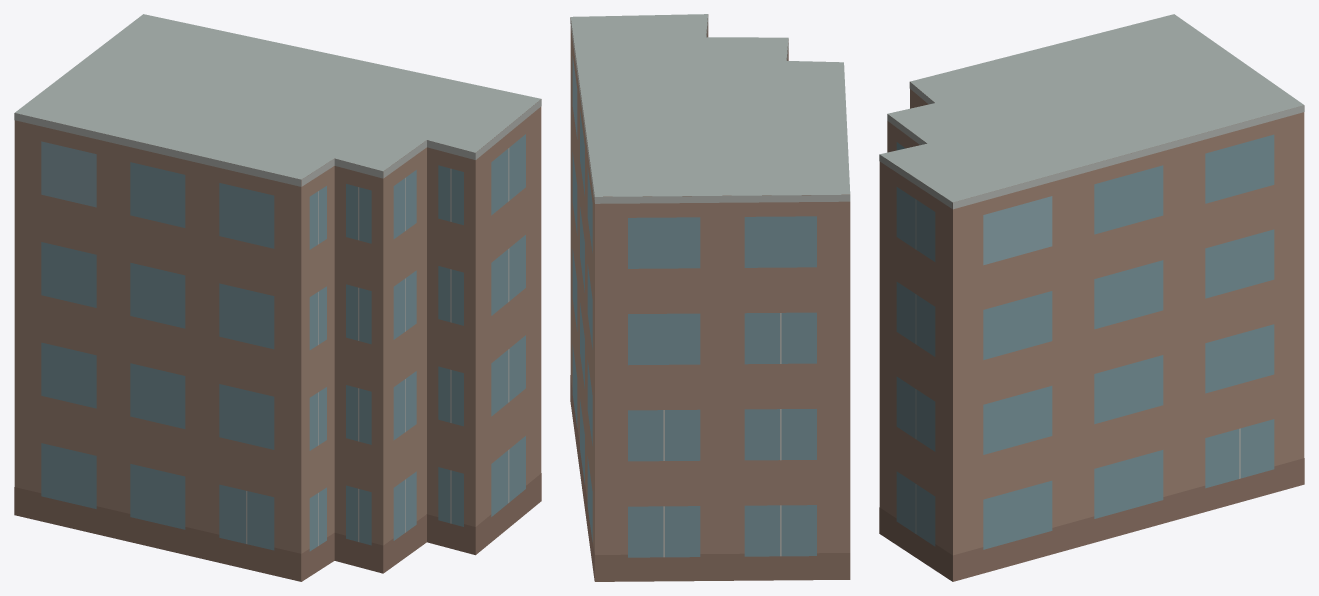
Rendered from survey-upis-32846467.glb.
3 renders of one model, left to right at view 1: azimuth 30°, elevation 25°; view 2: azimuth 150°, elevation 25°; view 3: azimuth 270°, elevation 25°, orthographic. The views are drawn at different scales.
Parts seen in each view (by area): view 1: survey-upis-32846467.tmp; view 2: survey-upis-32846467.tmp; view 3: survey-upis-32846467.tmp.
Boxes of the visible parts, x1,y1,x2,y2 form: survey-upis-32846467.tmp: (14,14,541,581); survey-upis-32846467.tmp: (570,14,850,581); survey-upis-32846467.tmp: (879,14,1304,581).
Bounding box in the file's own units: 14.29 × 13.4 × 13.61.
